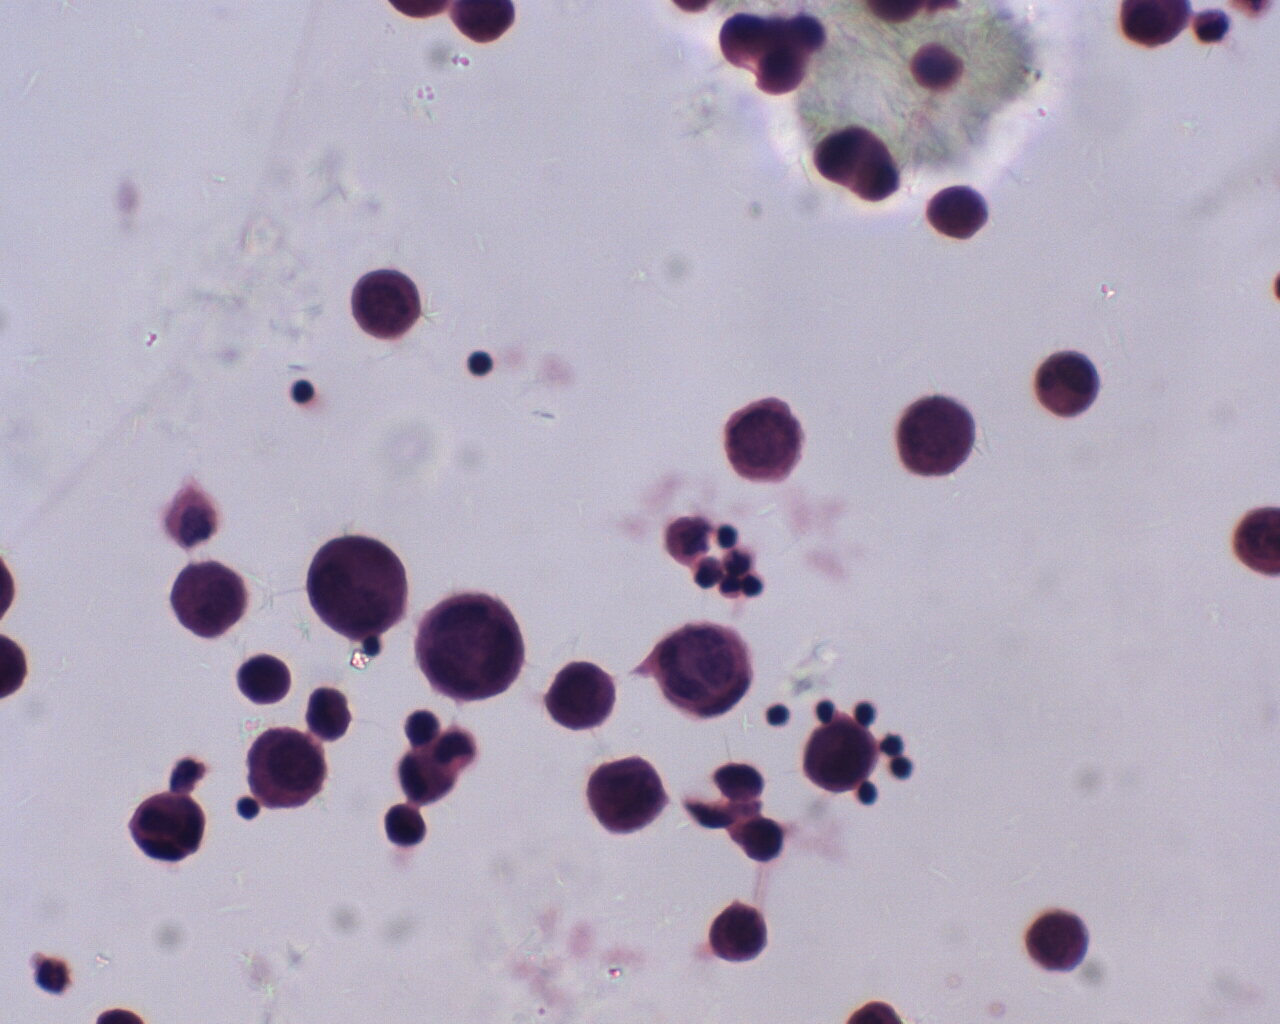ab: (418, 585, 528, 698), (305, 534, 413, 638), (242, 723, 331, 812), (893, 393, 980, 478), (579, 755, 665, 839), (724, 392, 802, 482), (795, 718, 878, 794), (540, 660, 622, 735), (347, 269, 425, 343), (1024, 905, 1093, 978)
histo: (643, 616, 757, 721)
lymph: (462, 345, 498, 375), (285, 375, 318, 404)
